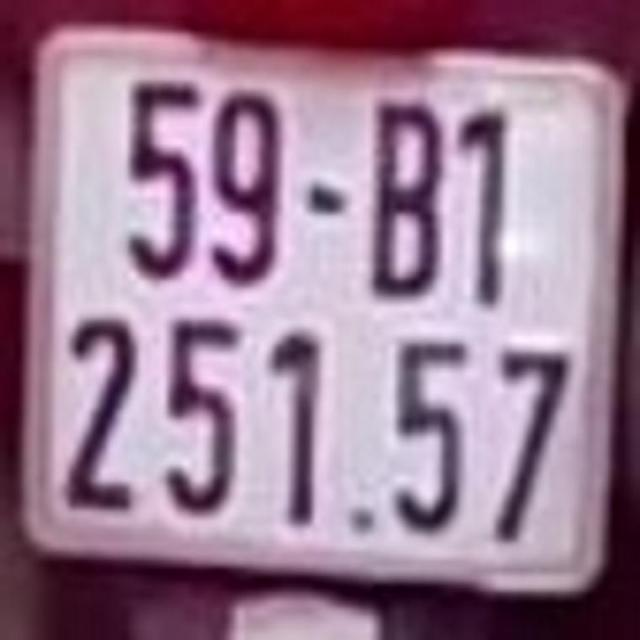1: (264, 315, 324, 527), (454, 103, 510, 308)
2: (62, 312, 142, 512)
5: (118, 70, 205, 288), (154, 309, 240, 522), (382, 330, 469, 536)
7: (494, 338, 574, 545)
9: (210, 85, 292, 292)
B: (363, 95, 446, 308)
